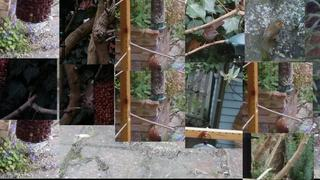dunnock: (202, 20, 225, 48)
mouse: (81, 84, 94, 109)
robin: (261, 20, 285, 46)
